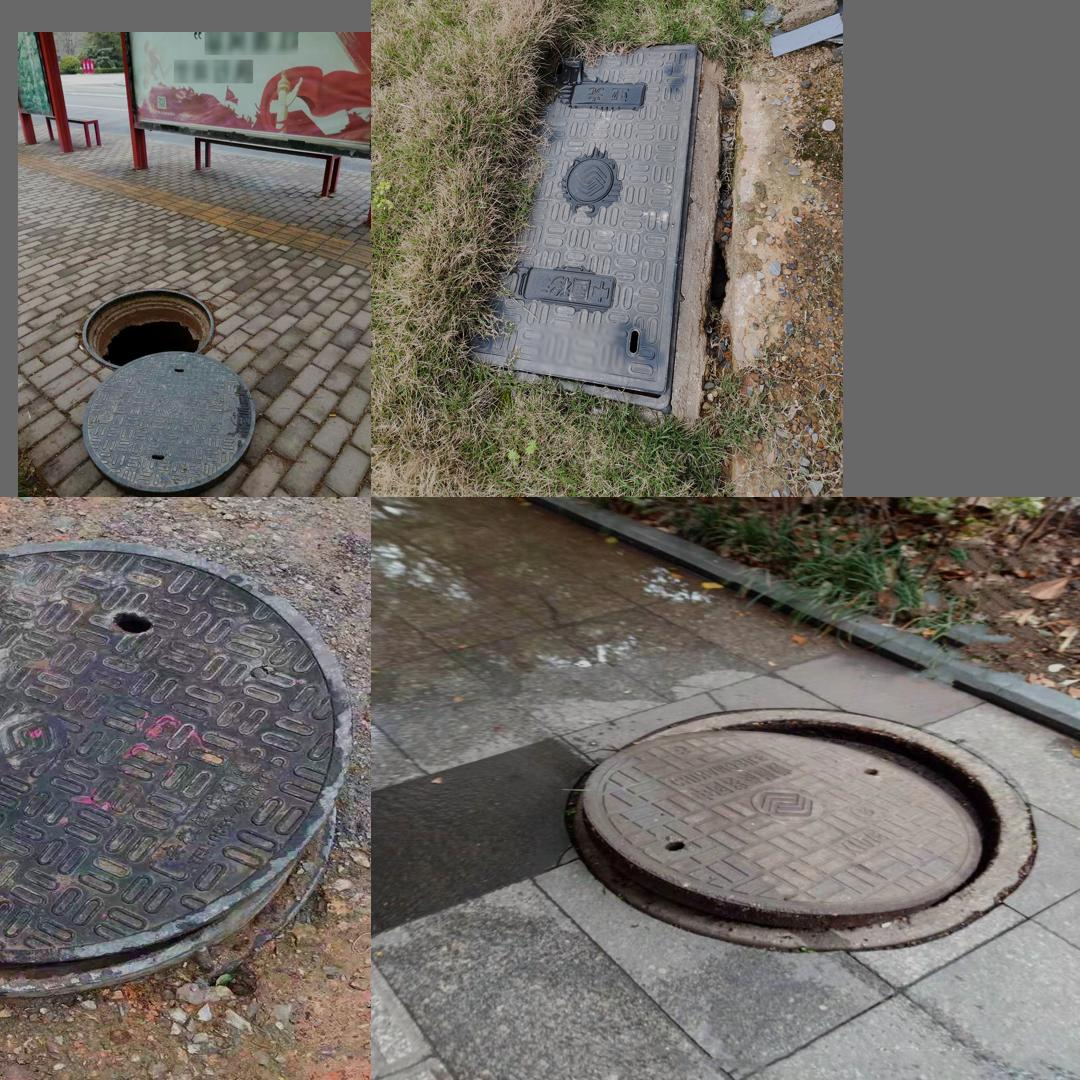uncovered: (0, 535, 352, 996), (563, 708, 1036, 949), (462, 44, 702, 409), (80, 287, 256, 491)
